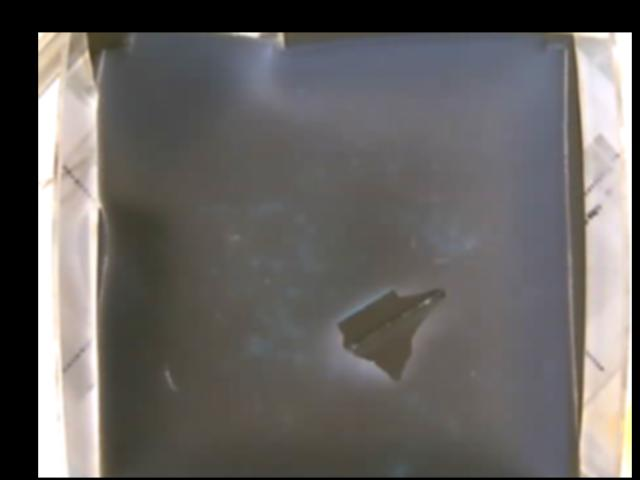China: (335, 282, 445, 379)
